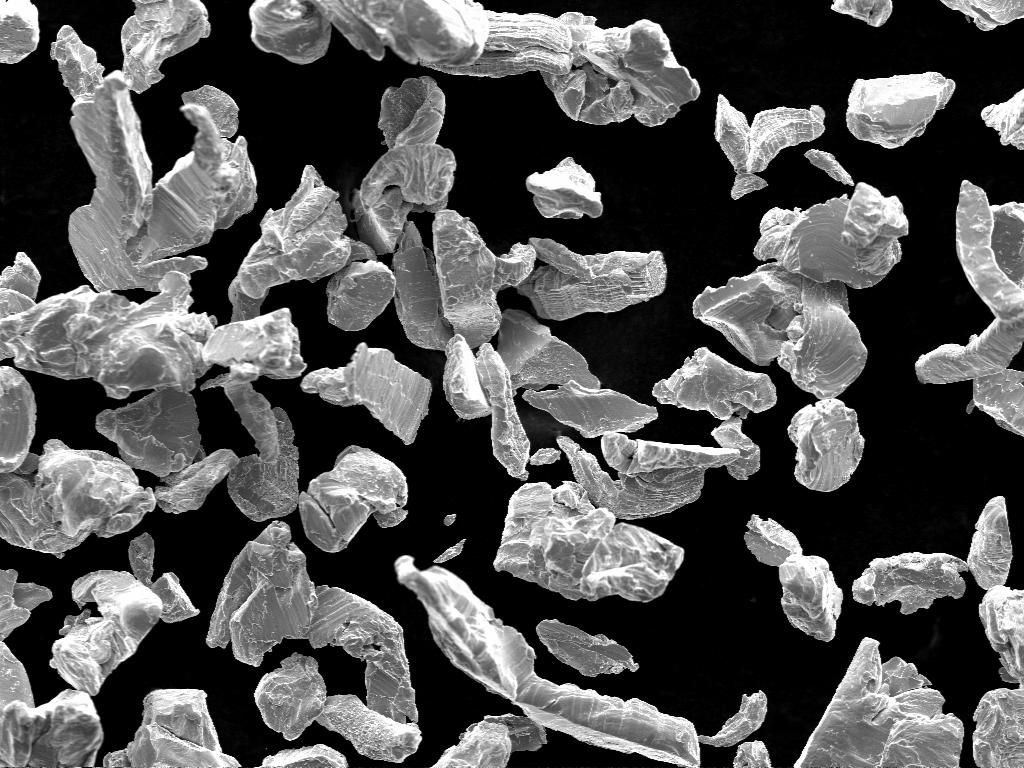Powder: (394, 556, 700, 766), (250, 0, 700, 125), (52, 28, 256, 290), (694, 184, 908, 400), (0, 252, 306, 397), (206, 522, 418, 722), (494, 434, 736, 601), (0, 366, 156, 555), (228, 166, 394, 330), (50, 534, 198, 695), (794, 638, 964, 767), (916, 182, 1024, 382), (0, 570, 104, 765), (852, 496, 1012, 614), (254, 654, 422, 762), (352, 78, 454, 254), (96, 388, 238, 513), (446, 334, 560, 479), (652, 348, 776, 479), (432, 210, 536, 348), (202, 374, 298, 521), (300, 342, 432, 444), (744, 514, 842, 642), (518, 238, 666, 320), (300, 446, 408, 552), (714, 96, 824, 197), (104, 690, 238, 767), (848, 72, 956, 148), (122, 0, 210, 93), (392, 222, 454, 350), (524, 380, 658, 438), (788, 398, 864, 491), (434, 714, 546, 768), (536, 620, 638, 676), (510, 338, 600, 390), (526, 158, 602, 218), (980, 586, 1024, 685), (972, 689, 1024, 768), (698, 690, 768, 745), (974, 370, 1024, 435), (982, 90, 1024, 150), (0, 0, 40, 63), (942, 1, 1024, 30), (262, 744, 348, 768), (804, 150, 854, 185), (832, 0, 892, 26), (735, 742, 772, 768), (434, 540, 465, 564), (444, 514, 456, 525)
